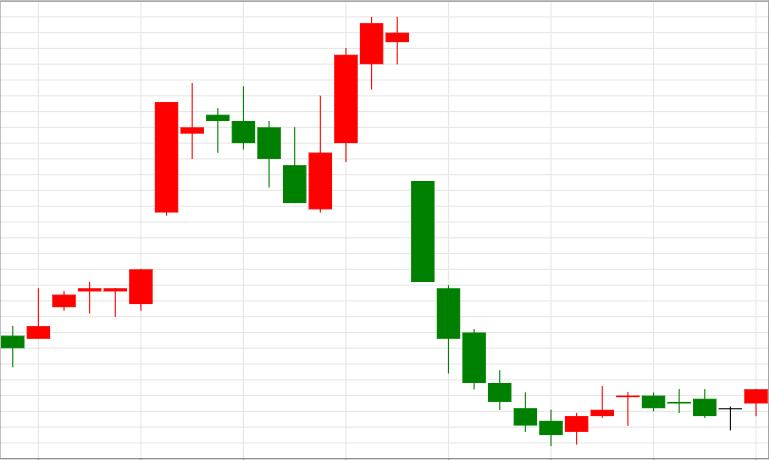bullish_engulfing_rise: (206, 86, 333, 214)
